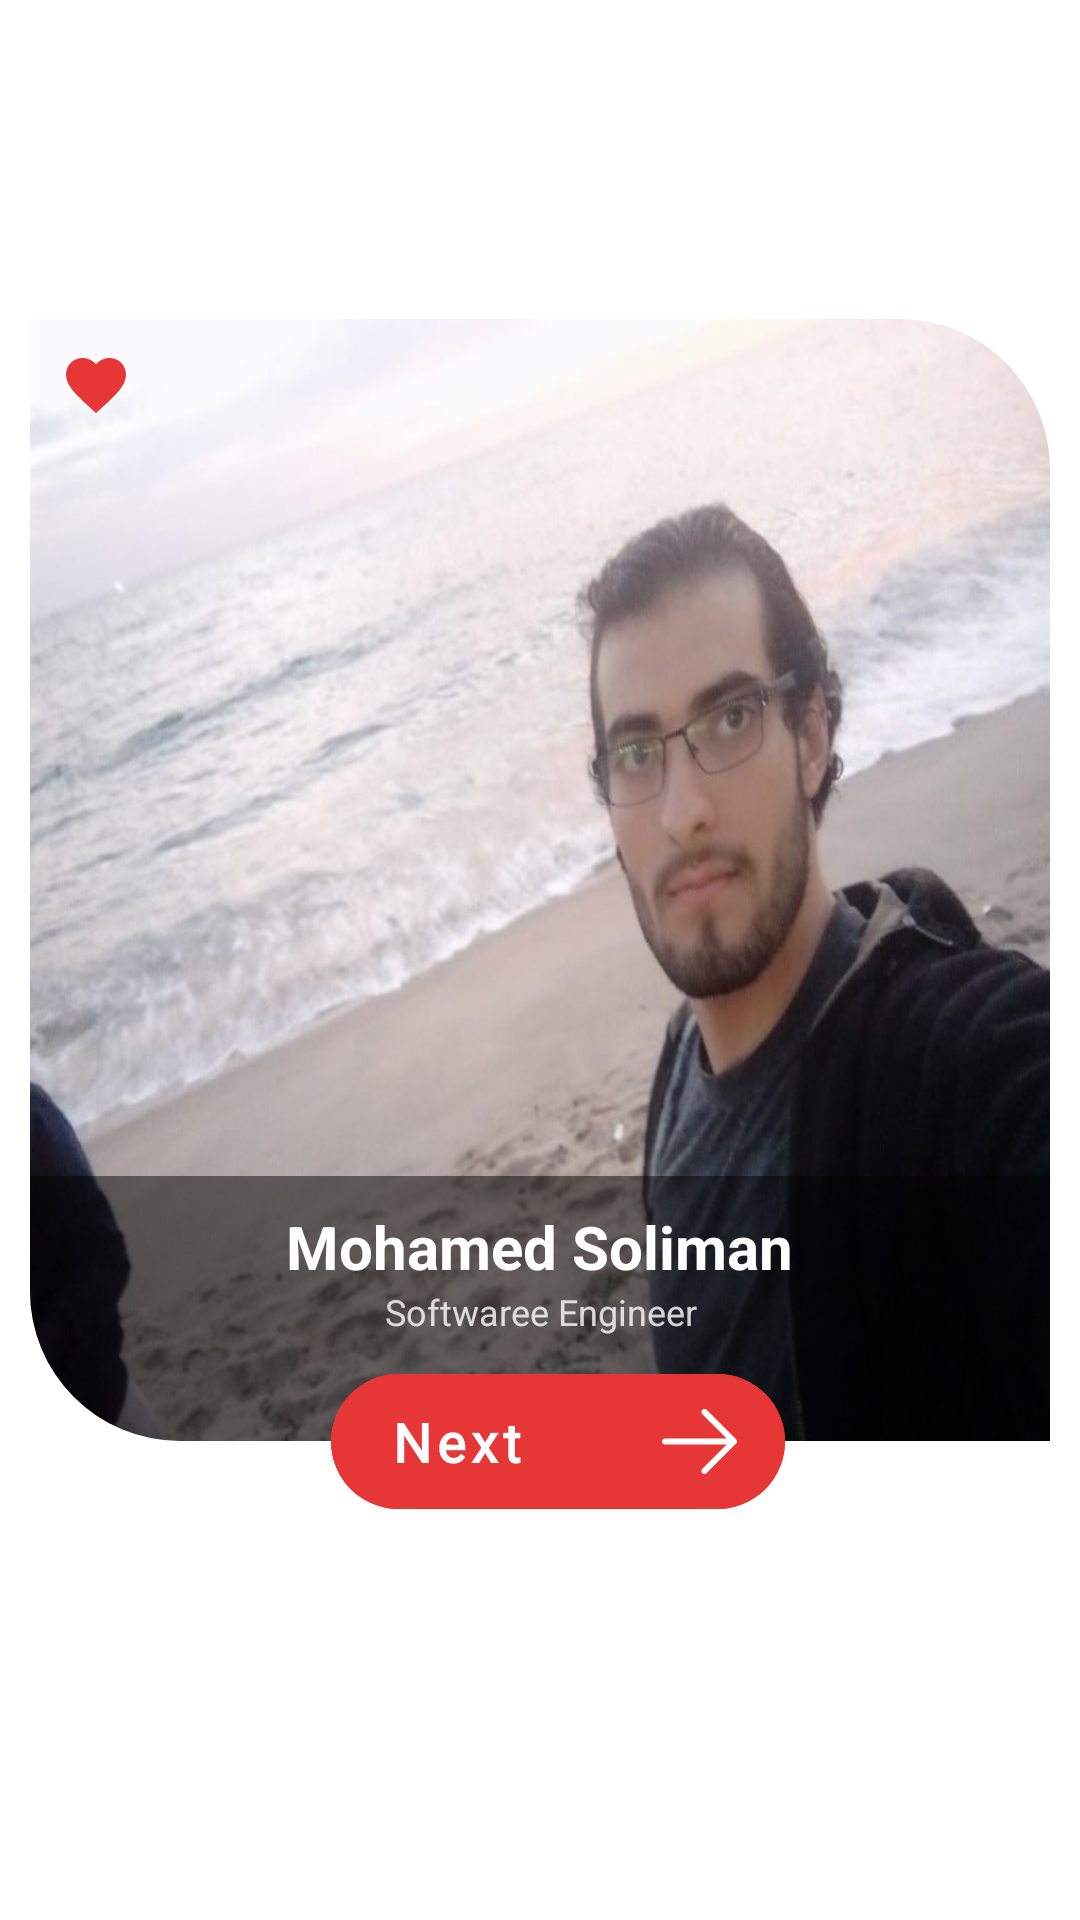

Named icons in this screenshot (1080*1920) and their bounding boxes, [x1, y1, x2, y2]:
favorite: [66, 358, 126, 413]
